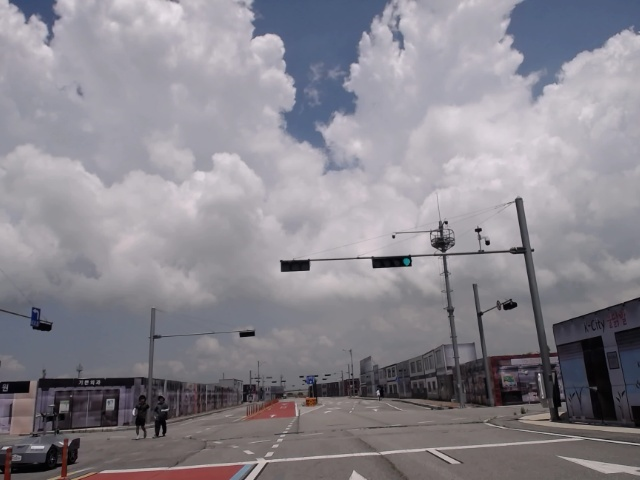straight_green_4: (370, 256, 412, 267)
